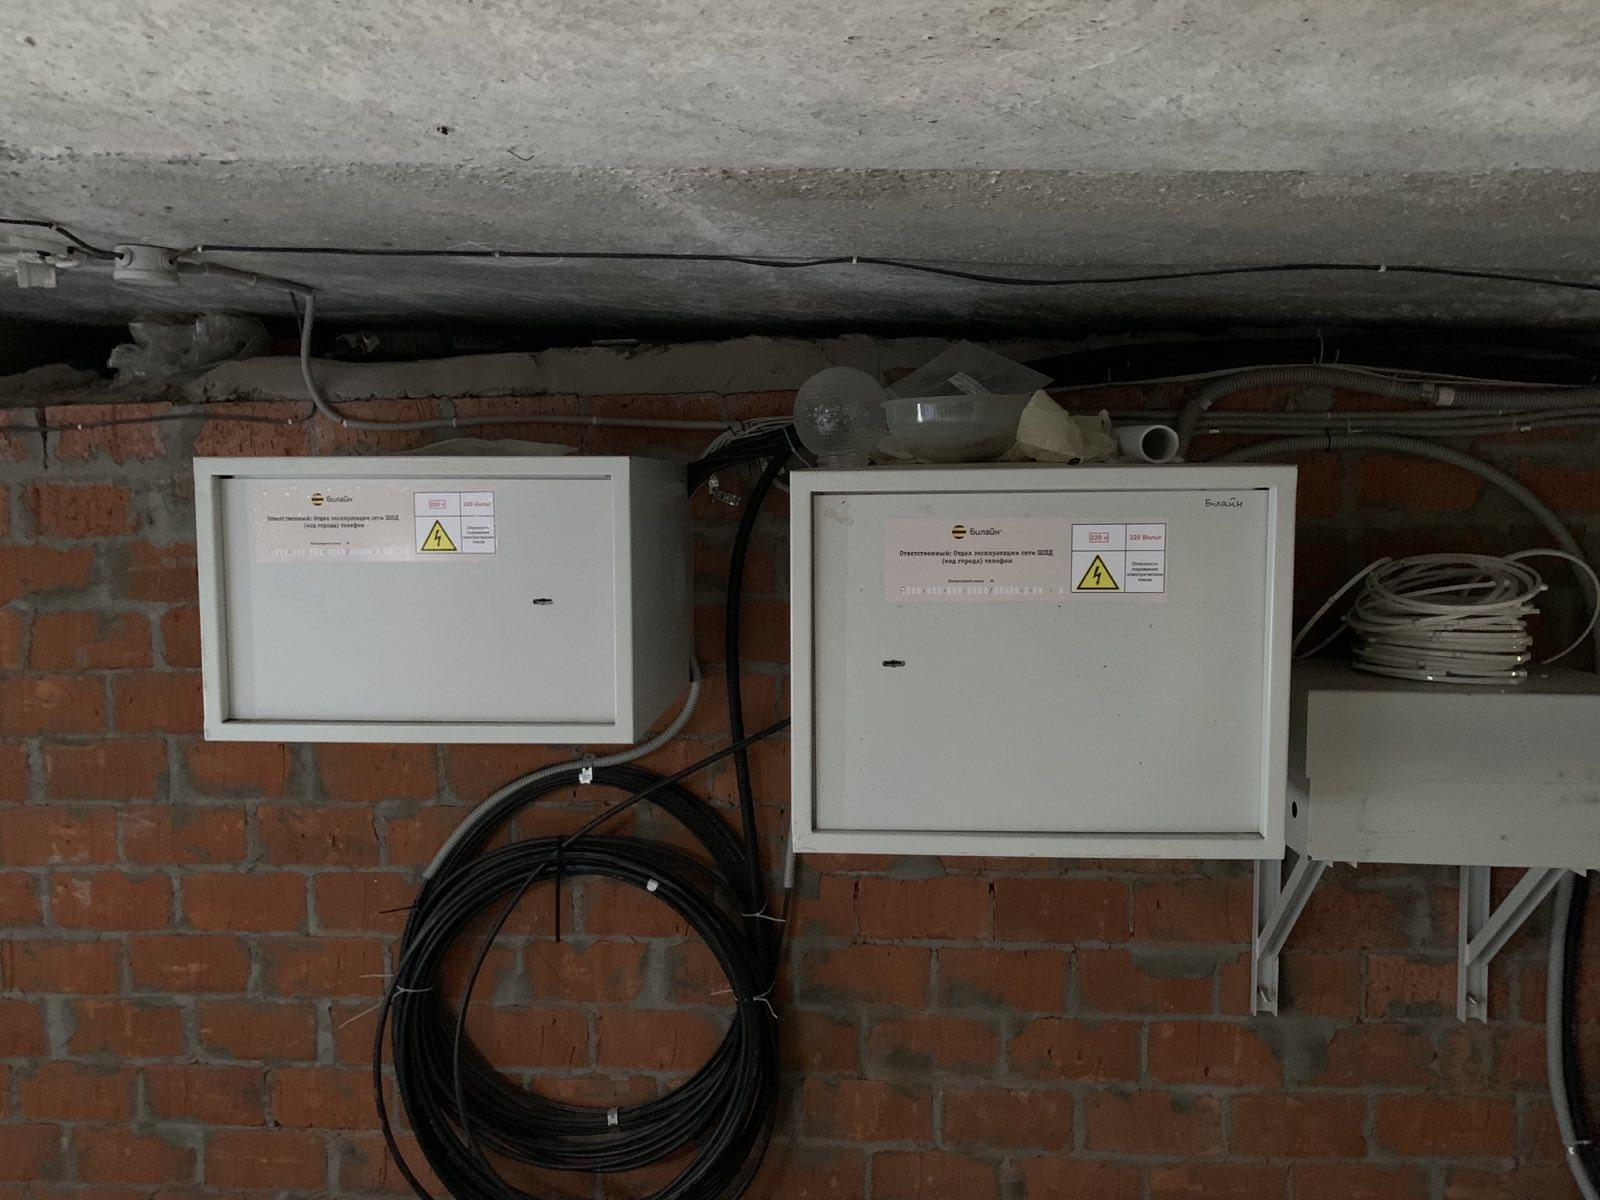shta-7m: (188, 453, 694, 751)
shta-9m: (787, 463, 1300, 863)
shta-ps: (1295, 666, 1595, 876)
